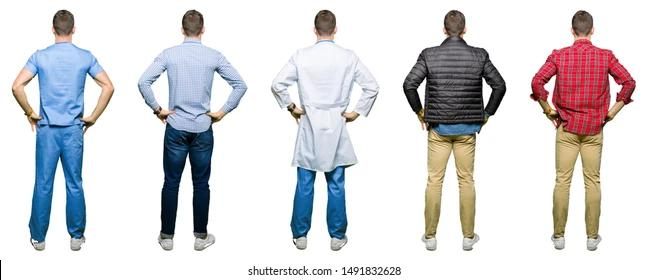jacket: (270, 39, 381, 173)
long sleeve shirt: (135, 37, 247, 133), (529, 39, 637, 137)
short sleeve shirt: (402, 35, 508, 128), (22, 41, 107, 127)
trousers: (27, 122, 88, 240), (158, 124, 214, 241), (423, 127, 478, 242), (553, 123, 603, 240), (290, 161, 347, 240)
